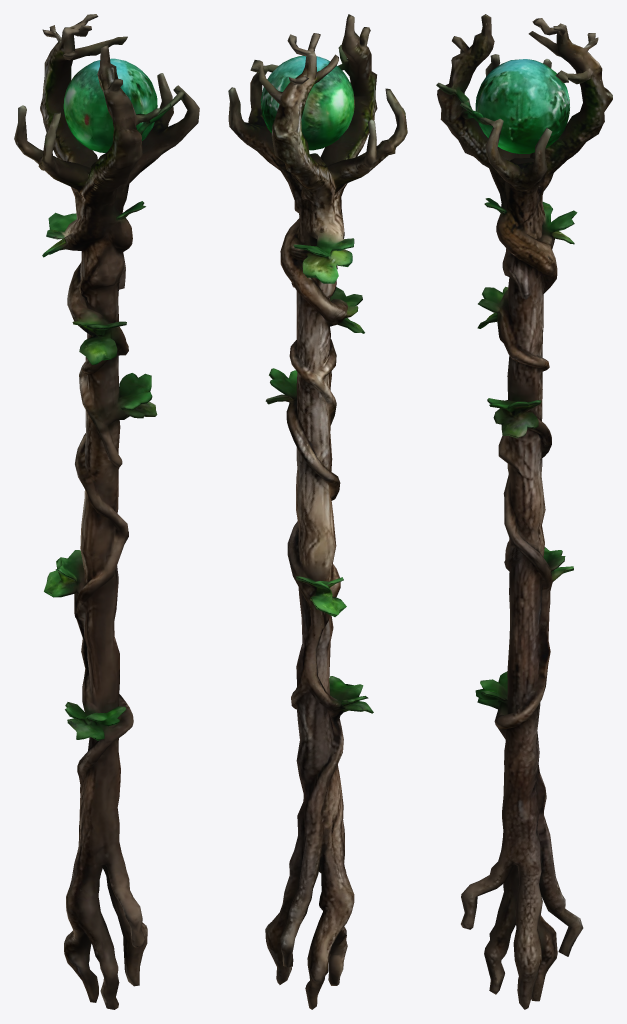
Rendered from greenwood_staff.glb.
3 views of the same model, side by side, from view 1: azimuth 30°, elevation 25°; view 2: azimuth 150°, elevation 25°; view 3: azimuth 270°, elevation 25° (orthographic).
Parts seen in each view (by area): view 1: greenwood_staff; view 2: greenwood_staff; view 3: greenwood_staff.
Boxes of the visible parts, bbox=[...] form: greenwood_staff: bbox=[14, 14, 199, 1009]; greenwood_staff: bbox=[228, 14, 407, 1009]; greenwood_staff: bbox=[436, 14, 612, 1009].
Bounding box in the file's own units: 0.2494 × 1.5 × 0.2451.
1 material, 1 textured.
